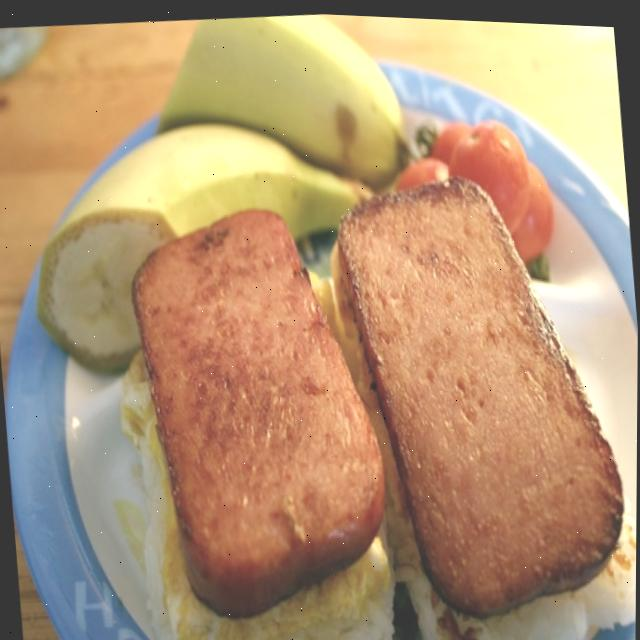寿司卷物: (77, 135, 639, 640)
